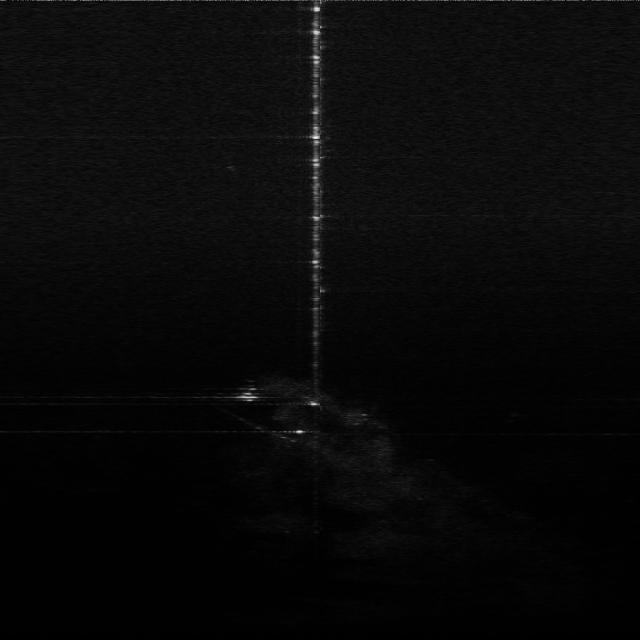rov: (234, 383, 266, 403)
